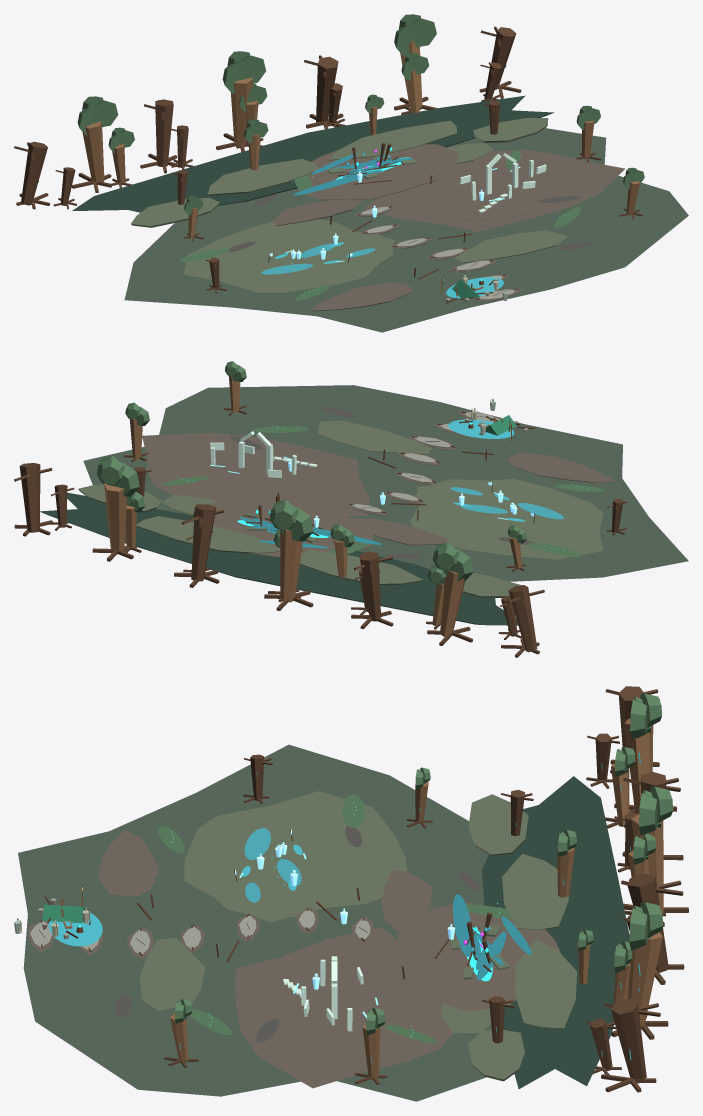
Rendered from memory_wastes_outer_fringe_v002.glb.
The picture shows the model from 3 angles, top to bottom: view 1: azimuth 30°, elevation 25°; view 2: azimuth 150°, elevation 25°; view 3: azimuth 270°, elevation 25°; orthographic projection. The views are drawn at different scales.
Visible parts, largest first — view 1: MW_OUTER_TERRAIN_MainGroundedMemoryWastesForestFloor_80x60, MW_OUTER_TERRAIN_BackRidge_DarkerForestEdge, MW_OUTER_TERRAIN_StrainedRootBank_RightRuins, MW_ECHO_FLATS_LowOpenMemoryLeakGround, MW_ORANYN_RUINS_HalfManifestedGroundShelf, LANDMARK_ROOTSHEAR_RIFT_MainCrackedGroundMound, MW_OUTER_TERRAIN_SickMossBank_LeftEchoFlat, MW_OUTER_TERRAIN_BackgroundBrokenForestMound_02, MW_OUTER_TERRAIN_BackgroundBrokenForestMound_01, MW_OUTER_TERRAIN_WoundedGroundLowRise_NotFlatPlate_01, MW_OUTER_TERRAIN_WoundedGroundLowRise_NotFlatPlate_00, MW_OUTER_TERRAIN_BackgroundBrokenForestMound_00 (+12 smaller); view 2: MW_OUTER_TERRAIN_MainGroundedMemoryWastesForestFloor_80x60, MW_OUTER_TERRAIN_BackRidge_DarkerForestEdge, MW_OUTER_TERRAIN_StrainedRootBank_RightRuins, MW_ECHO_FLATS_LowOpenMemoryLeakGround, MW_ORANYN_RUINS_HalfManifestedGroundShelf, MW_OUTER_TERRAIN_SickMossBank_LeftEchoFlat, LANDMARK_ROOTSHEAR_RIFT_MainCrackedGroundMound, MW_OUTER_TERRAIN_BackgroundBrokenForestMound_02, MW_OUTER_TERRAIN_WoundedGroundLowRise_NotFlatPlate_01, MW_OUTER_TERRAIN_WoundedGroundLowRise_NotFlatPlate_00, MW_OUTER_TERRAIN_BackgroundBrokenForestMound_01, MW_OUTER_TERRAIN_WoundedGroundLowRise_NotFlatPlate_02 (+14 smaller); view 3: MW_OUTER_TERRAIN_MainGroundedMemoryWastesForestFloor_80x60, MW_OUTER_TERRAIN_BackRidge_DarkerForestEdge, MW_OUTER_TERRAIN_StrainedRootBank_RightRuins, MW_ECHO_FLATS_LowOpenMemoryLeakGround, MW_ORANYN_RUINS_HalfManifestedGroundShelf, LANDMARK_ROOTSHEAR_RIFT_MainCrackedGroundMound, MW_OUTER_TERRAIN_SickMossBank_LeftEchoFlat, MW_OUTER_TERRAIN_BackgroundBrokenForestMound_02, MW_OUTER_TERRAIN_BackgroundBrokenForestMound_01, MW_OUTER_TERRAIN_WoundedGroundLowRise_NotFlatPlate_01, MW_OUTER_TERRAIN_WoundedGroundLowRise_NotFlatPlate_00, MW_OUTER_TERRAIN_BackgroundBrokenForestMound_00 (+21 smaller).
Boxes of the visible parts, left/top/right/bottom form: MW_OUTER_TERRAIN_MainGroundedMemoryWastesForestFloor_80x60: left=124, top=128, right=688, bottom=332; MW_OUTER_TERRAIN_BackRidge_DarkerForestEdge: left=72, top=95, right=553, bottom=212; MW_OUTER_TERRAIN_StrainedRootBank_RightRuins: left=363, top=149, right=624, bottom=231; MW_ECHO_FLATS_LowOpenMemoryLeakGround: left=239, top=231, right=393, bottom=286; MW_ORANYN_RUINS_HalfManifestedGroundShelf: left=423, top=168, right=589, bottom=219; LANDMARK_ROOTSHEAR_RIFT_MainCrackedGroundMound: left=298, top=144, right=458, bottom=200; MW_OUTER_TERRAIN_SickMossBank_LeftEchoFlat: left=183, top=219, right=395, bottom=292; MW_OUTER_TERRAIN_BackgroundBrokenForestMound_02: left=330, top=120, right=456, bottom=160; MW_OUTER_TERRAIN_BackgroundBrokenForestMound_01: left=207, top=159, right=318, bottom=195; MW_OUTER_TERRAIN_WoundedGroundLowRise_NotFlatPlate_01: left=454, top=230, right=567, bottom=262; MW_OUTER_TERRAIN_WoundedGroundLowRise_NotFlatPlate_00: left=311, top=282, right=412, bottom=311; MW_OUTER_TERRAIN_BackgroundBrokenForestMound_00: left=131, top=197, right=219, bottom=227; MW_OUTER_TERRAIN_MainGroundedMemoryWastesForestFloor_80x60: left=83, top=385, right=688, bottom=581; MW_OUTER_TERRAIN_BackRidge_DarkerForestEdge: left=40, top=492, right=518, bottom=625; MW_OUTER_TERRAIN_StrainedRootBank_RightRuins: left=142, top=432, right=369, bottom=515; MW_ECHO_FLATS_LowOpenMemoryLeakGround: left=415, top=479, right=590, bottom=538; MW_ORANYN_RUINS_HalfManifestedGroundShelf: left=176, top=440, right=342, bottom=495; MW_OUTER_TERRAIN_SickMossBank_LeftEchoFlat: left=410, top=479, right=603, bottom=559; LANDMARK_ROOTSHEAR_RIFT_MainCrackedGroundMound: left=192, top=499, right=373, bottom=557; MW_OUTER_TERRAIN_BackgroundBrokenForestMound_02: left=136, top=516, right=280, bottom=553; MW_OUTER_TERRAIN_WoundedGroundLowRise_NotFlatPlate_01: left=318, top=421, right=431, bottom=454; MW_OUTER_TERRAIN_WoundedGroundLowRise_NotFlatPlate_00: left=507, top=452, right=615, bottom=482; MW_OUTER_TERRAIN_BackgroundBrokenForestMound_01: left=299, top=550, right=422, bottom=584; MW_OUTER_TERRAIN_WoundedGroundLowRise_NotFlatPlate_02: left=351, top=518, right=449, bottom=545; MW_OUTER_TERRAIN_MainGroundedMemoryWastesForestFloor_80x60: left=18, top=744, right=491, bottom=1101; MW_OUTER_TERRAIN_BackRidge_DarkerForestEdge: left=482, top=776, right=629, bottom=1088; MW_OUTER_TERRAIN_StrainedRootBank_RightRuins: left=235, top=927, right=452, bottom=1088; MW_ECHO_FLATS_LowOpenMemoryLeakGround: left=198, top=816, right=362, bottom=918; MW_ORANYN_RUINS_HalfManifestedGroundShelf: left=245, top=958, right=394, bottom=1060; LANDMARK_ROOTSHEAR_RIFT_MainCrackedGroundMound: left=397, top=902, right=560, bottom=1011; MW_OUTER_TERRAIN_SickMossBank_LeftEchoFlat: left=184, top=791, right=407, bottom=922; MW_OUTER_TERRAIN_BackgroundBrokenForestMound_02: left=514, top=939, right=576, bottom=1028; MW_OUTER_TERRAIN_BackgroundBrokenForestMound_01: left=502, top=853, right=568, bottom=929; MW_OUTER_TERRAIN_WoundedGroundLowRise_NotFlatPlate_01: left=140, top=938, right=205, bottom=1011; MW_OUTER_TERRAIN_WoundedGroundLowRise_NotFlatPlate_00: left=98, top=829, right=159, bottom=896; MW_OUTER_TERRAIN_BackgroundBrokenForestMound_00: left=468, top=794, right=528, bottom=855.
Bounding box in the file's own units: 88.14 × 14.82 × 70.39.
